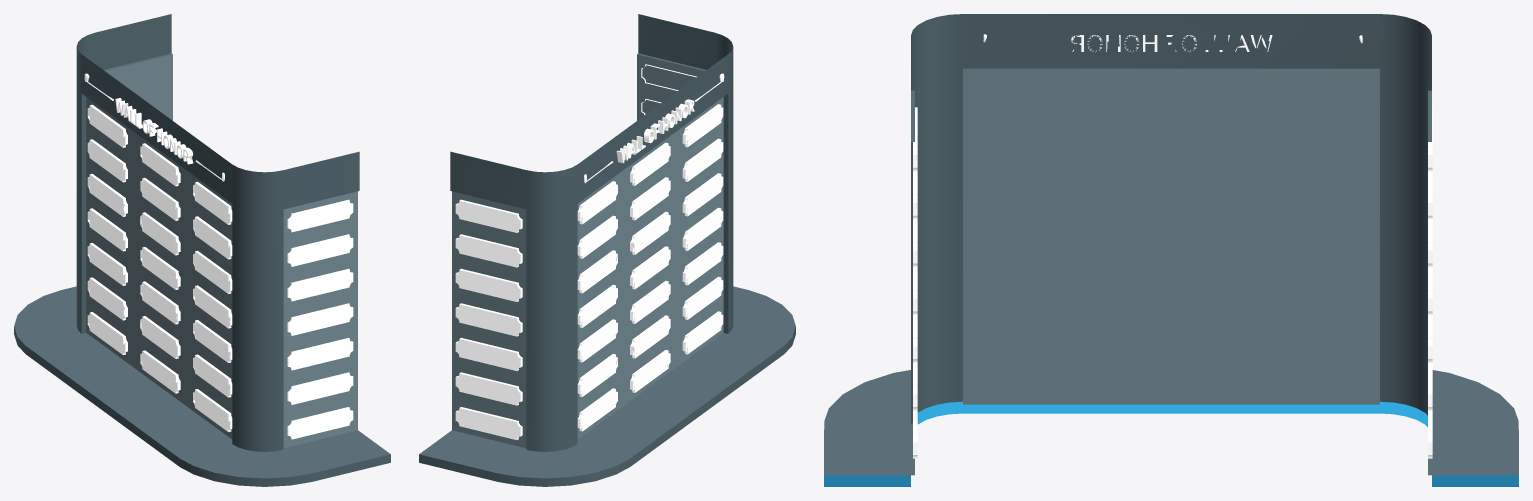
File: Wall_of_Honor.glb
3 renders of one model, left to right at view 1: azimuth 30°, elevation 25°; view 2: azimuth 150°, elevation 25°; view 3: azimuth 270°, elevation 25°, orthographic. The views are drawn at different scales.
Parts seen in each view (by area): view 1: Wall of Honor Podium; view 2: Wall of Honor Podium; view 3: Wall of Honor Podium.
Boxes of the visible parts, <box> form: Wall of Honor Podium: <box>14,14,390,486</box>; Wall of Honor Podium: <box>419,14,795,486</box>; Wall of Honor Podium: <box>824,14,1518,486</box>.
Size of what is drawn, in the model's own units: 4.5 by 7.61 by 12.
2 materials, 2 textured.
